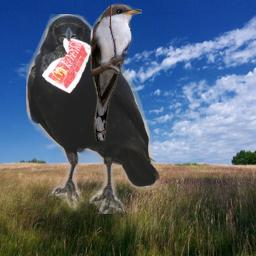Crow: (26, 14, 161, 214)
Cuckoo: (89, 3, 142, 141)
